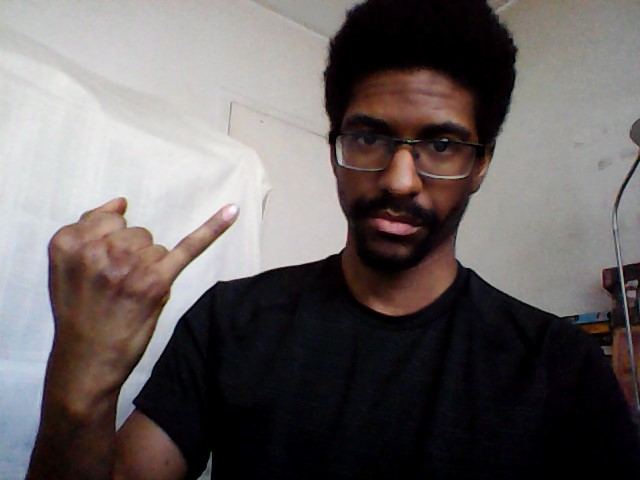j: (39, 189, 244, 385)
